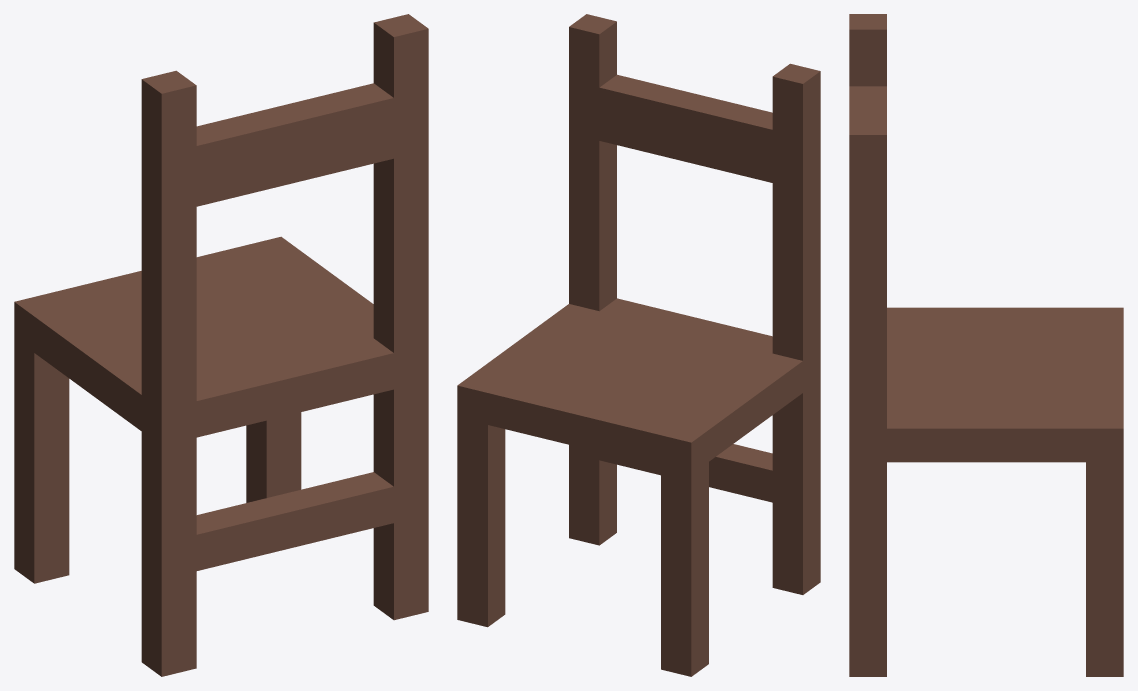
Rendered from wooden chair by 浅井裕斗 - 4SSuGf1RWwY.glb.
The picture shows the model from 3 angles, left to right: view 1: azimuth 30°, elevation 25°; view 2: azimuth 150°, elevation 25°; view 3: azimuth 270°, elevation 25°; orthographic projection. The views are drawn at different scales.
Parts seen in each view (by area): view 1: group1801756284, group186090110, group968569892, group1429727318, group636231570, group727653651, group1281263484; view 2: group1801756284, group186090110, group968569892, group1429727318, group636231570, group1281263484, group727653651; view 3: group1801756284, group968569892, group1281263484, group186090110, group1429727318, group636231570.
Boxes of the visible parts, x1,y1,x2,y2 form: group1801756284: (34, 236, 428, 445); group186090110: (141, 70, 196, 676); group968569892: (373, 14, 428, 620); group1429727318: (141, 83, 416, 214); group636231570: (14, 293, 69, 583); group727653651: (165, 472, 405, 576); group1281263484: (246, 412, 301, 502); group1801756284: (457, 298, 820, 474); group186090110: (772, 63, 820, 594); group968569892: (569, 14, 616, 545); group1429727318: (579, 74, 820, 190); group636231570: (661, 422, 708, 676); group1281263484: (457, 417, 505, 627); group727653651: (589, 444, 820, 509); group1801756284: (849, 307, 1123, 462); group968569892: (849, 119, 886, 676); group1281263484: (1086, 462, 1123, 676); group186090110: (849, 14, 886, 86); group1429727318: (849, 86, 886, 119); group636231570: (1086, 307, 1123, 323).
Size of the model in its own units: 0.23 by 0.48 by 0.22.
